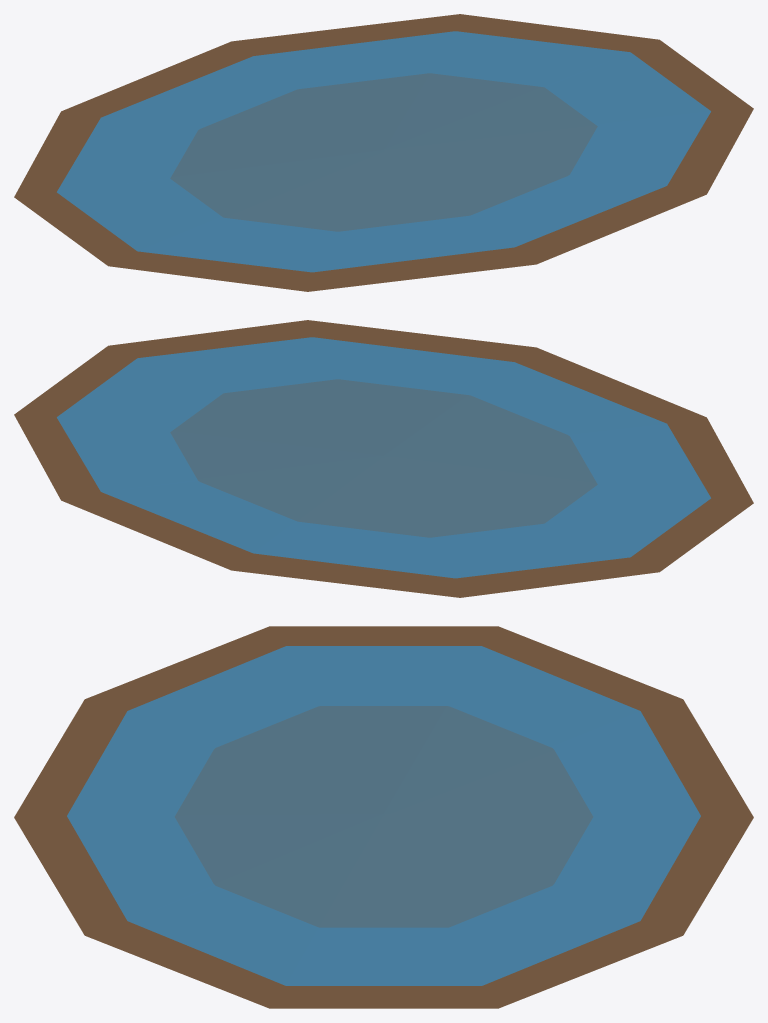
The model's file is puddle.glb.
3 renders of one model, top to bottom at view 1: azimuth 30°, elevation 25°; view 2: azimuth 150°, elevation 25°; view 3: azimuth 270°, elevation 25°, orthographic. The views are drawn at different scales.
Visible parts, largest first — view 1: puddle; view 2: puddle; view 3: puddle.
Part boxes in pixels (x1,y1,x2,y2): puddle: (14,14,753,291); puddle: (14,320,753,597); puddle: (14,626,753,1008).
Bounding box in the file's own units: 1.71 × 0.011 × 1.4.
